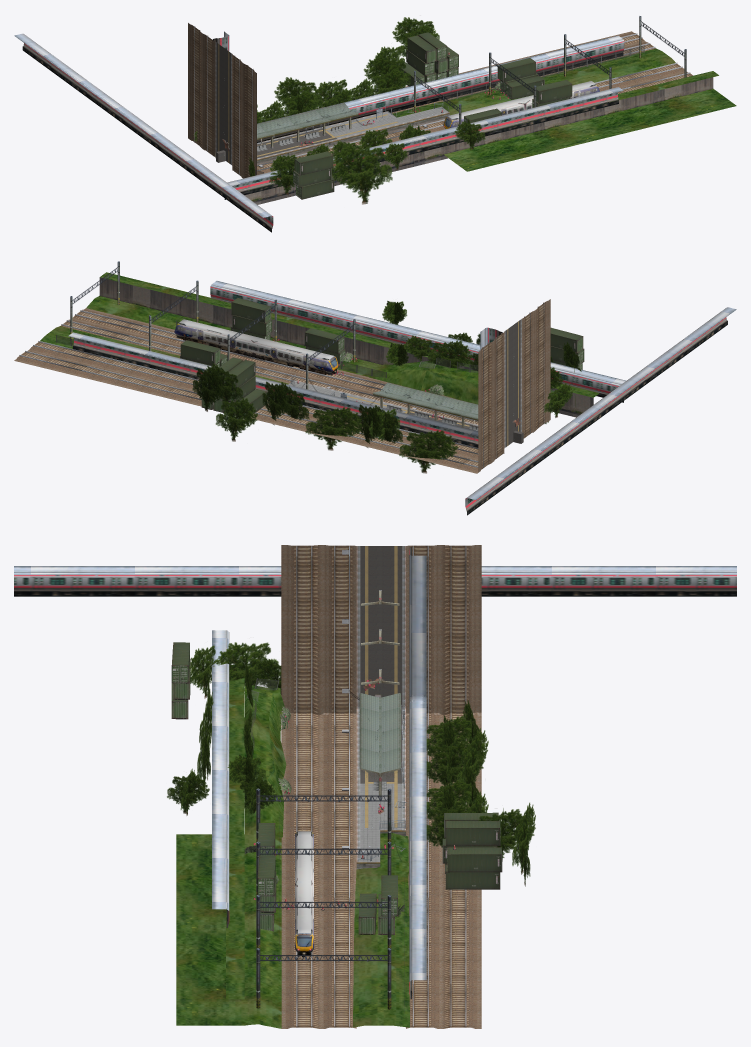
File: upwards_metro.glb
3 renders of one model, top to bottom at view 1: azimuth 30°, elevation 25°; view 2: azimuth 150°, elevation 25°; view 3: azimuth 270°, elevation 25°, orthographic. The views are drawn at different scales.
Parts seen in each view (by area): view 1: train, hill_trees, grassy_hill, rail_dirt, platform, wall, rail_metal, Cube, station_roof, her_train_scotland, hill_fence, container_019 (+8 smaller); view 2: rail_dirt, train, hill_trees, wall, grassy_hill, rail_metal, her_train_scotland, platform, Cube, station_roof, hill_fence, container_004 (+5 smaller); view 3: rail_dirt, train, grassy_hill, hill_trees, platform, wall, Cube, rail_metal, station_roof, her_train_scotland, container_013, container_011 (+1 smaller).
Boxes of the visible parts, <box> form: train: <box>14,31,624,232</box>; hill_trees: <box>194,17,485,204</box>; grassy_hill: <box>251,48,736,176</box>; rail_dirt: <box>188,23,692,178</box>; platform: <box>215,42,449,170</box>; wall: <box>245,71,718,204</box>; rail_metal: <box>194,26,690,177</box>; Cube: <box>414,16,686,124</box>; station_roof: <box>257,103,358,139</box>; her_train_scotland: <box>443,81,599,128</box>; hill_fence: <box>254,45,644,175</box>; container_019: <box>294,151,333,175</box>; rail_dirt: <box>14,299,550,473</box>; train: <box>68,281,736,515</box>; hill_trees: <box>192,301,581,473</box>; wall: <box>99,272,599,417</box>; grassy_hill: <box>40,296,565,422</box>; rail_metal: <box>19,303,544,468</box>; her_train_scotland: <box>174,319,338,375</box>; platform: <box>288,319,523,453</box>; Cube: <box>70,261,355,389</box>; station_roof: <box>373,382,478,420</box>; hill_fence: <box>56,321,557,398</box>; container_004: <box>304,328,344,353</box>; rail_dirt: <box>281,545,481,1028</box>; train: <box>14,547,736,998</box>; grassy_hill: <box>176,685,409,1028</box>; hill_trees: <box>167,642,535,886</box>; platform: <box>356,546,405,869</box>; wall: <box>226,665,244,999</box>; Cube: <box>256,788,391,1009</box>; rail_metal: <box>296,546,466,1026</box>; station_roof: <box>359,693,400,772</box>; her_train_scotland: <box>295,831,313,957</box>; container_013: <box>447,847,502,872</box>; container_011: <box>445,821,500,845</box>.
Size of the model in its own units: 142 by 33.96 by 116.
38 materials, 38 textured.
